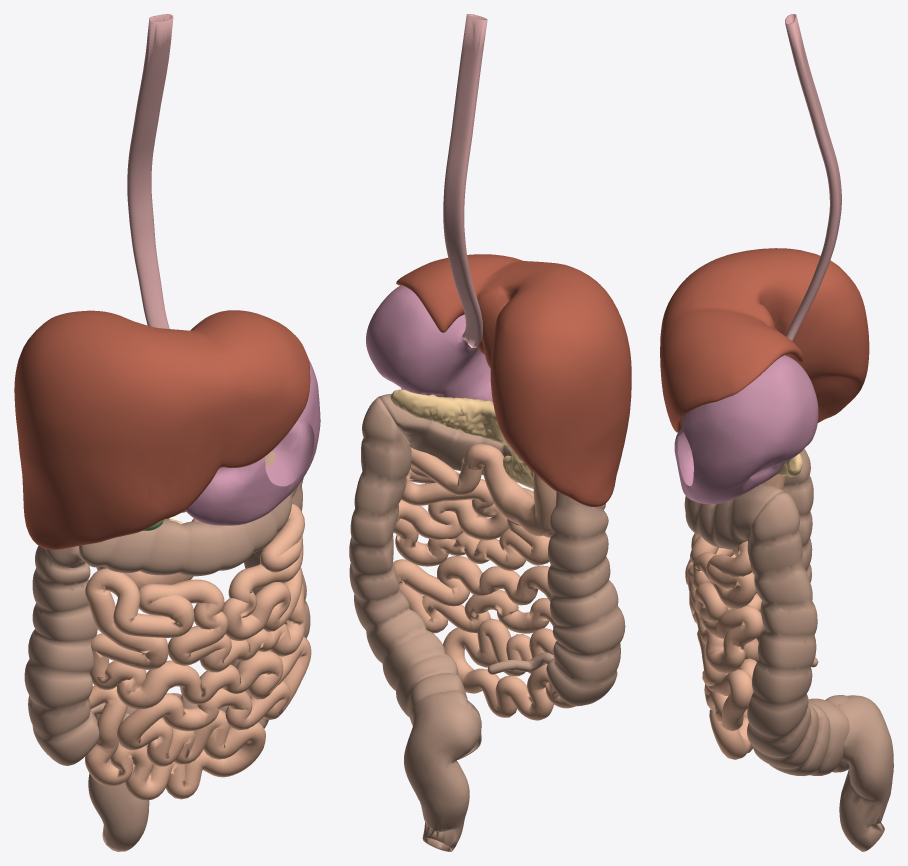
The model's file is digestive.glb.
3 views of the same model, side by side, from view 1: azimuth 30°, elevation 25°; view 2: azimuth 150°, elevation 25°; view 3: azimuth 270°, elevation 25° (orthographic). The views are drawn at different scales.
Parts seen in each view (by area): view 1: liver__Liver, small-intestine-jejunum__Jejunum, large-intestine-ascending-colon__Ascending colon, large-intestine-transverse-colon__Transverse colon, oesophagus__Oesophagus, stomach__Stomach, large-intestine-sigmoid-colon__Sigmoid colon, large-intestine-descending-colon__Descending colon, small-intestine-duodenum__Duodenum; view 2: liver__Liver, small-intestine-jejunum__Jejunum, large-intestine-descending-colon__Descending colon, large-intestine-ascending-colon__Ascending colon, stomach__Stomach, large-intestine-sigmoid-colon__Sigmoid colon, oesophagus__Oesophagus, pancreas__Pancreas, small-intestine-duodenum__Duodenum, large-intestine-transverse-colon__Transverse colon, large-intestine-vermiform-appendix__Vermiform appendix; view 3: liver__Liver, large-intestine-descending-colon__Descending colon, stomach__Stomach, small-intestine-jejunum__Jejunum, large-intestine-sigmoid-colon__Sigmoid colon, oesophagus__Oesophagus, large-intestine-transverse-colon__Transverse colon, large-intestine-ascending-colon__Ascending colon.
Part boxes in pixels (x1,y1,x2,y2): liver__Liver: (14, 310, 310, 549); small-intestine-jejunum__Jejunum: (85, 504, 311, 800); large-intestine-ascending-colon__Ascending colon: (24, 545, 99, 765); large-intestine-transverse-colon__Transverse colon: (79, 451, 297, 576); oesophagus__Oesophagus: (127, 14, 173, 328); stomach__Stomach: (185, 360, 320, 525); large-intestine-sigmoid-colon__Sigmoid colon: (88, 713, 149, 851); large-intestine-descending-colon__Descending colon: (126, 478, 310, 746); small-intestine-duodenum__Duodenum: (96, 518, 198, 588); liver__Liver: (396, 254, 631, 507); small-intestine-jejunum__Jejunum: (393, 447, 575, 720); large-intestine-descending-colon__Descending colon: (349, 397, 481, 759); large-intestine-ascending-colon__Ascending colon: (546, 491, 625, 706); stomach__Stomach: (366, 285, 492, 402); large-intestine-sigmoid-colon__Sigmoid colon: (404, 692, 481, 851); oesophagus__Oesophagus: (443, 14, 487, 347); pancreas__Pancreas: (390, 389, 533, 488); small-intestine-duodenum__Duodenum: (463, 444, 556, 536); large-intestine-transverse-colon__Transverse colon: (378, 393, 517, 482); large-intestine-vermiform-appendix__Vermiform appendix: (487, 652, 554, 674); liver__Liver: (660, 248, 869, 432); large-intestine-descending-colon__Descending colon: (747, 491, 849, 776); stomach__Stomach: (674, 355, 818, 504); small-intestine-jejunum__Jejunum: (685, 533, 763, 759); large-intestine-sigmoid-colon__Sigmoid colon: (838, 695, 893, 851); oesophagus__Oesophagus: (785, 14, 841, 341); large-intestine-transverse-colon__Transverse colon: (684, 485, 783, 549); large-intestine-ascending-colon__Ascending colon: (756, 448, 813, 642).
Bounding box in the file's own units: 0.229 × 0.6718 × 0.1712.
